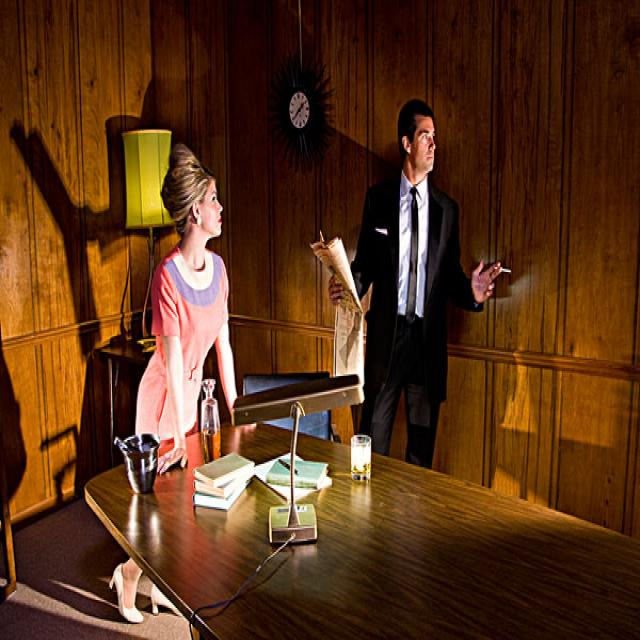smoking: (492, 264, 513, 278)
